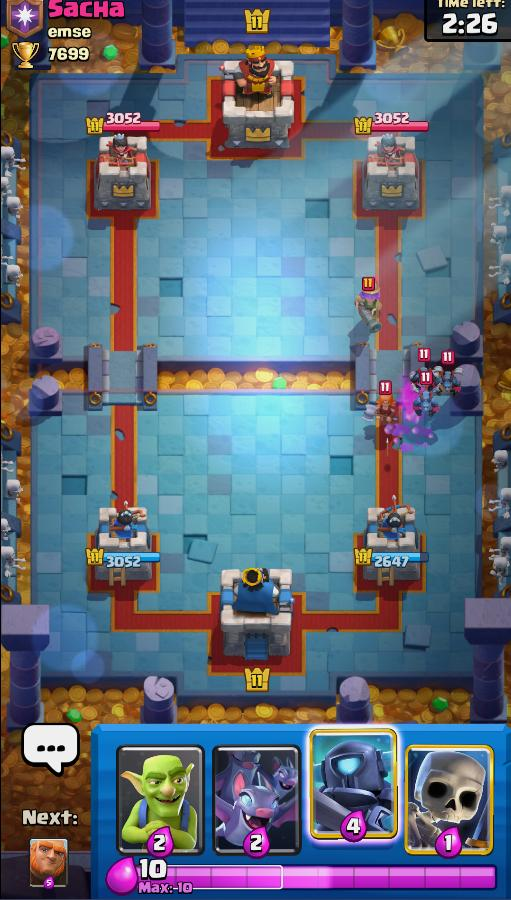gargouille: (406, 364, 439, 392), (412, 389, 444, 417), (437, 369, 463, 393)
mousquetaire: (354, 282, 383, 333)
valkyrie: (364, 392, 403, 429)
